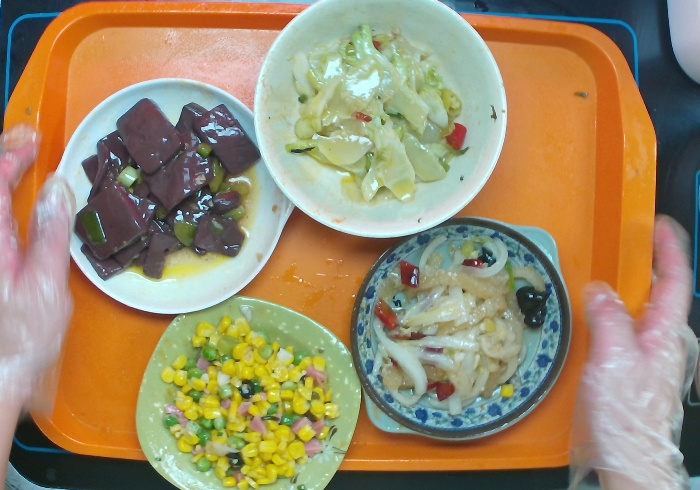NLDX-Bai_Se_Shuang_Er_Die: (38, 76, 297, 320)
NLDX-Bai_Se_Yuan_Wan: (252, 1, 509, 242)
NLDX-Lv_Hua_Fang_Die: (131, 292, 365, 490)
NLDX-Qing_Hua_Shuang_Er_Die: (347, 209, 574, 449)
